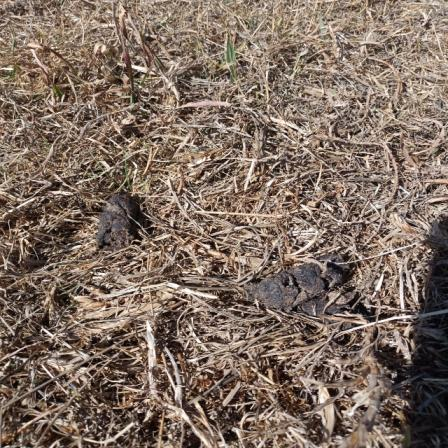dog-poop: (244, 242, 365, 326), (88, 186, 160, 258)
